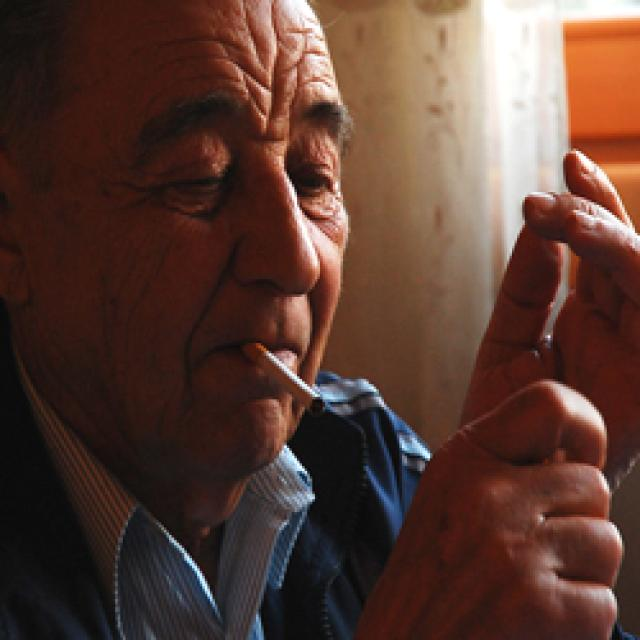Smooking: (239, 324, 347, 426)
